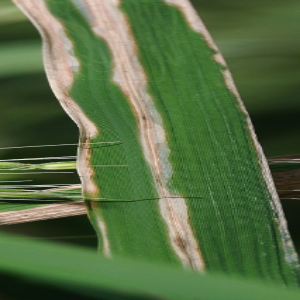Bacterial_Blight: (38, 1, 254, 276)
